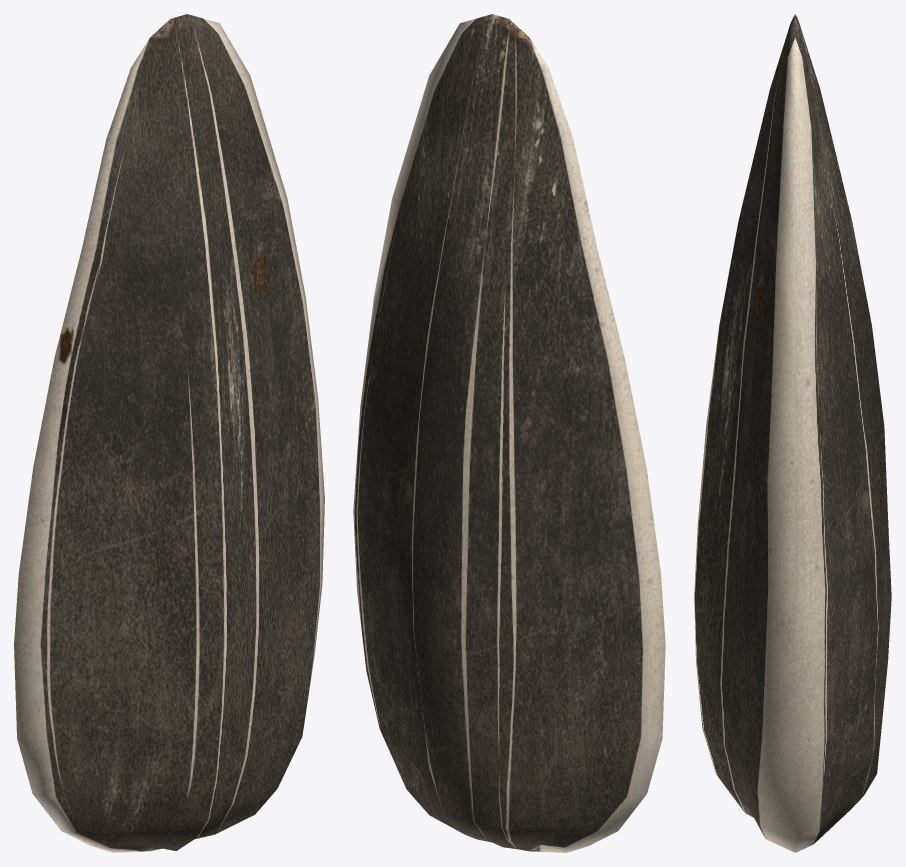
The model's file is sunflower_seed.glb.
3 views of the same model, side by side, from view 1: azimuth 30°, elevation 25°; view 2: azimuth 150°, elevation 25°; view 3: azimuth 270°, elevation 25° (orthographic).
Visible parts, largest first — view 1: Sunflower_Seed_model; view 2: Sunflower_Seed_model; view 3: Sunflower_Seed_model.
Part boxes in pixels (left/top/right/bottom): Sunflower_Seed_model: left=14, top=14, right=324, bottom=852; Sunflower_Seed_model: left=353, top=14, right=665, bottom=852; Sunflower_Seed_model: left=694, top=14, right=891, bottom=852.
Bounding box in the file's own units: 0.0916 × 0.2334 × 0.051.
Materials: 1 (1 with a texture image).
